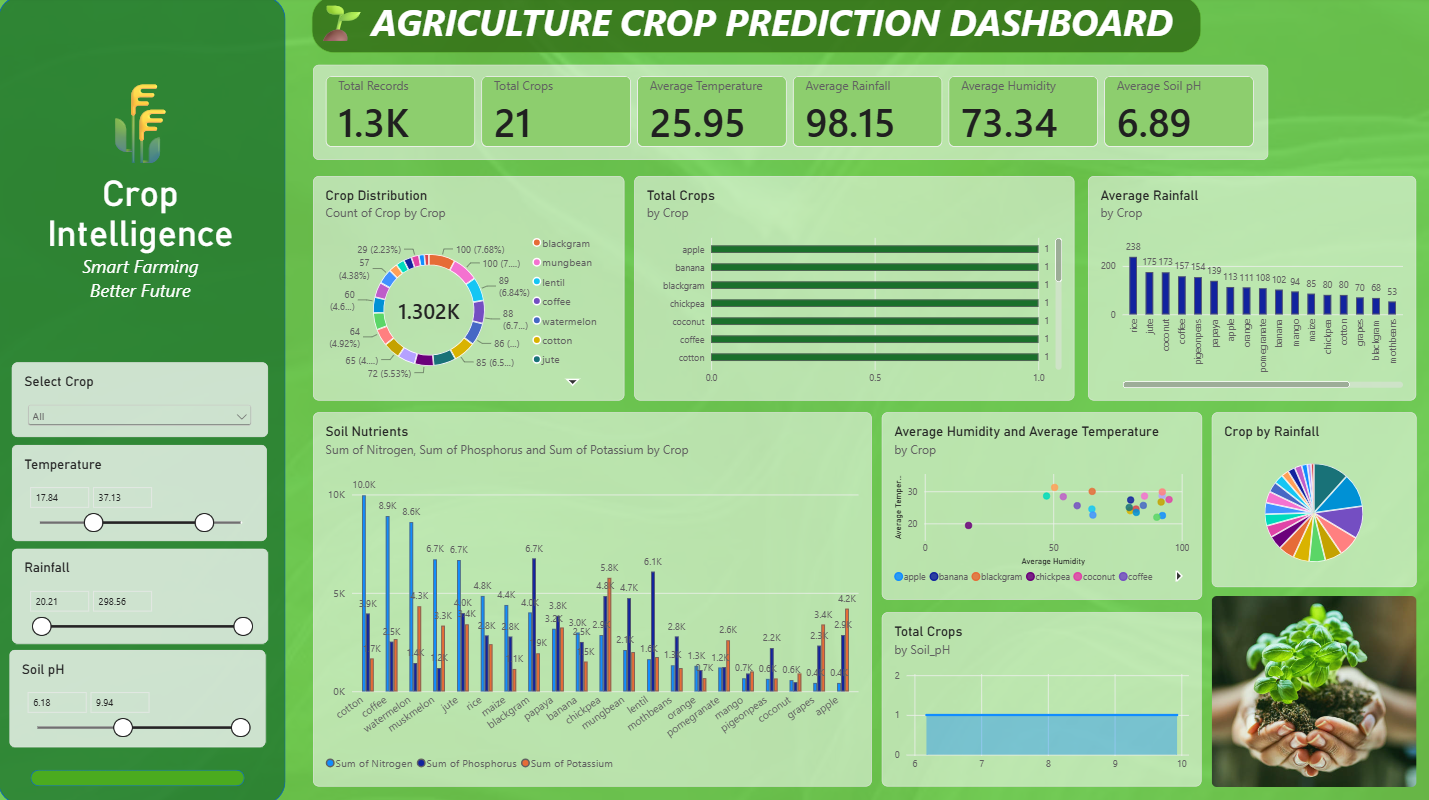

The dashboard page shown, as its layout file describes it:
{"tool":"powerbi","page":{"name":"Page 1","canvas":[1920,1080],"ordinal":0},"visuals":[{"type":"shape","box":[0,0,384,1080],"z":0},{"type":"textbox","box":[419.8,0,1187.7,76.2],"z":1000},{"type":"cardVisual","fields":{"Data":["Crop_Data.Total Records","Crop_Data.Total Crops","Crop_Data.Average Temperature","Crop_Data.Average Rainfall","Crop_Data.Average Humidity","Crop_Data.Average Soil pH"]},"box":[420,91.4,1275.7,127.1],"z":2000},{"type":"donutChart","title":"Crop Distribution","fields":{"Category":["Crop_Data.Crop"],"Y":["CountNonNull(Crop_Data.Crop)"]},"box":[420,240,416,300],"z":3000},{"type":"clusteredBarChart","fields":{"Category":["Crop_Data.Crop"],"Y":["Crop_Data.Total Crops"]},"box":[850,240,588,300],"z":4000},{"type":"clusteredColumnChart","title":"Soil Nutrients","fields":{"Category":["Crop_Data.Crop"],"Y":["Sum(Crop_Data.Nitrogen)","Sum(Crop_Data.Phosphorus)","Sum(Crop_Data.Potassium)"]},"box":[420,556,746,500],"z":5000},{"type":"clusteredColumnChart","fields":{"Category":["Crop_Data.Crop"],"Y":["Crop_Data.Average Rainfall"]},"box":[1456,240,438,300],"z":6000},{"type":"scatterChart","fields":{"Series":["Crop_Data.Crop"],"X":["Crop_Data.Average Humidity"],"Y":["Crop_Data.Average Temperature"]},"box":[1180,556,428,250],"z":7000},{"type":"stackedAreaChart","fields":{"Category":["Crop_Data.Soil_pH"],"Y":["Crop_Data.Total Crops"]},"box":[1180,823.8,427.5,232.5],"z":8000},{"type":"slicer","title":"Select Crop","fields":{"Values":["Crop_Data.Crop"]},"box":[18,490,342,100],"z":9000},{"type":"slicer","title":"Temperature","fields":{"Values":["Crop_Data.Temperature"]},"box":[17.8,600,342,128],"z":10000},{"type":"slicer","title":"Rainfall","fields":{"Values":["Crop_Data.Rainfall"]},"box":[17.8,737.8,342.2,126.7],"z":11000},{"type":"slicer","title":"Soil pH","fields":{"Values":["Crop_Data.Soil_pH"]},"box":[15.6,873.3,342.2,130],"z":12000},{"type":"shape","box":[43.8,1033.8,286,22],"z":13000},{"type":"pieChart","title":"Crop by Rainfall","fields":{"Category":["Crop_Data.Crop"],"Series":["Crop_Data.Crop"],"Y":["Sum(Crop_Data.Rainfall)"]},"box":[1621.5,555.6,273.3,233.4],"z":14000},{"type":"image","box":[1621.5,801.7,273.3,255.2],"z":14002},{"type":"textbox","box":[100,100,300,300],"z":14003},{"type":"textbox","box":[30.8,94.1,320.3,363.7],"z":14004}]}

Visuals, with their boxes in screenshot pixels (x1, y1, x2, y2), scaled from the page's 1920x1080 canvas onto the 1429x800 screenshot:
shape: detection(0, 0, 286, 799)
textbox: detection(312, 0, 1196, 56)
cardVisual - Crop_Data.Total Records x Crop_Data.Total Crops: detection(313, 68, 1262, 162)
"Crop Distribution" donutChart: detection(313, 178, 622, 400)
clusteredBarChart - Crop_Data.Crop x Crop_Data.Total Crops: detection(633, 178, 1070, 400)
"Soil Nutrients" clusteredColumnChart: detection(313, 412, 868, 782)
clusteredColumnChart - Crop_Data.Crop x Crop_Data.Average Rainfall: detection(1084, 178, 1410, 400)
scatterChart - Crop_Data.Crop x Crop_Data.Average Humidity: detection(878, 412, 1197, 597)
stackedAreaChart - Crop_Data.Soil_pH x Crop_Data.Total Crops: detection(878, 610, 1196, 782)
"Select Crop" slicer: detection(13, 363, 268, 437)
"Temperature" slicer: detection(13, 444, 268, 539)
"Rainfall" slicer: detection(13, 547, 268, 640)
"Soil pH" slicer: detection(12, 647, 266, 743)
shape: detection(33, 766, 245, 782)
"Crop by Rainfall" pieChart: detection(1207, 412, 1410, 584)
image: detection(1207, 594, 1410, 783)
textbox: detection(74, 74, 298, 296)
textbox: detection(23, 70, 261, 339)
